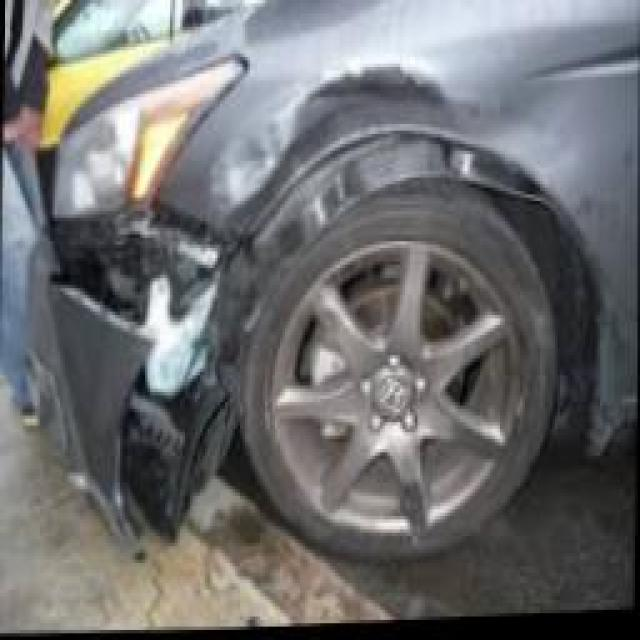rapairable: (256, 54, 464, 176)
replaceable: (42, 228, 253, 506)
